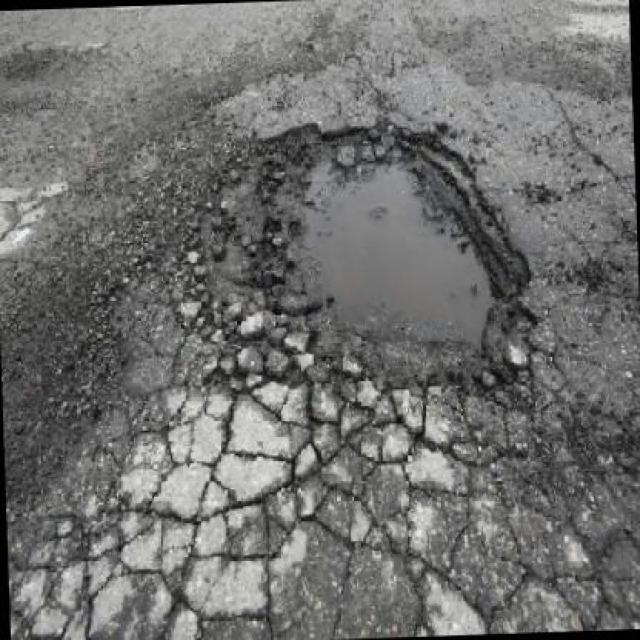pothole1: (178, 106, 540, 417)
